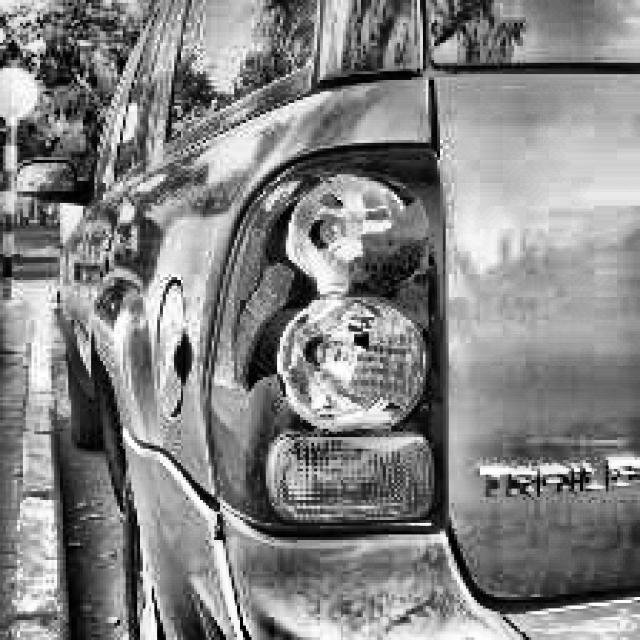tail_lamp: (272, 182, 430, 432)
